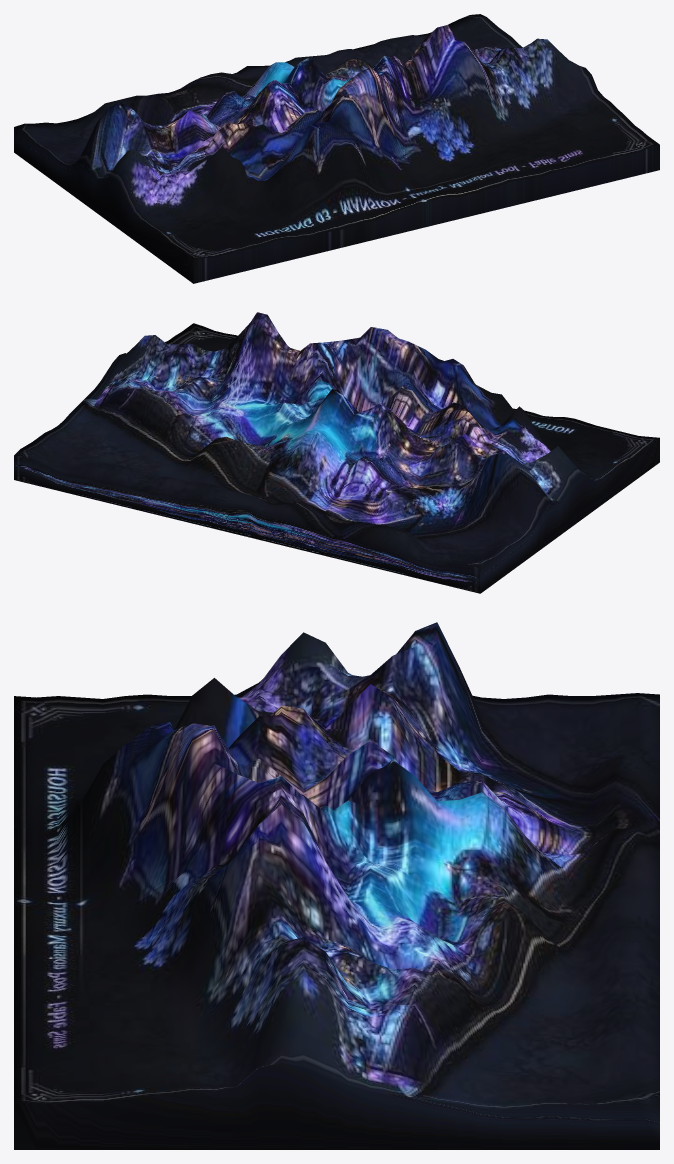
File: HOUSING_03_Mansion.glb
3 renders of one model, top to bottom at view 1: azimuth 30°, elevation 25°; view 2: azimuth 150°, elevation 25°; view 3: azimuth 270°, elevation 25°, orthographic. The views are drawn at different scales.
Visible parts, largest first — view 1: HOUSING_03_Mansion; view 2: HOUSING_03_Mansion; view 3: HOUSING_03_Mansion.
Part boxes in pixels (x1,y1,x2,y2): HOUSING_03_Mansion: [14, 14, 659, 283]; HOUSING_03_Mansion: [14, 312, 659, 593]; HOUSING_03_Mansion: [14, 622, 659, 1149].
Size of the model in its own units: 2 by 0.51 by 1.33.
1 material, 1 textured.
